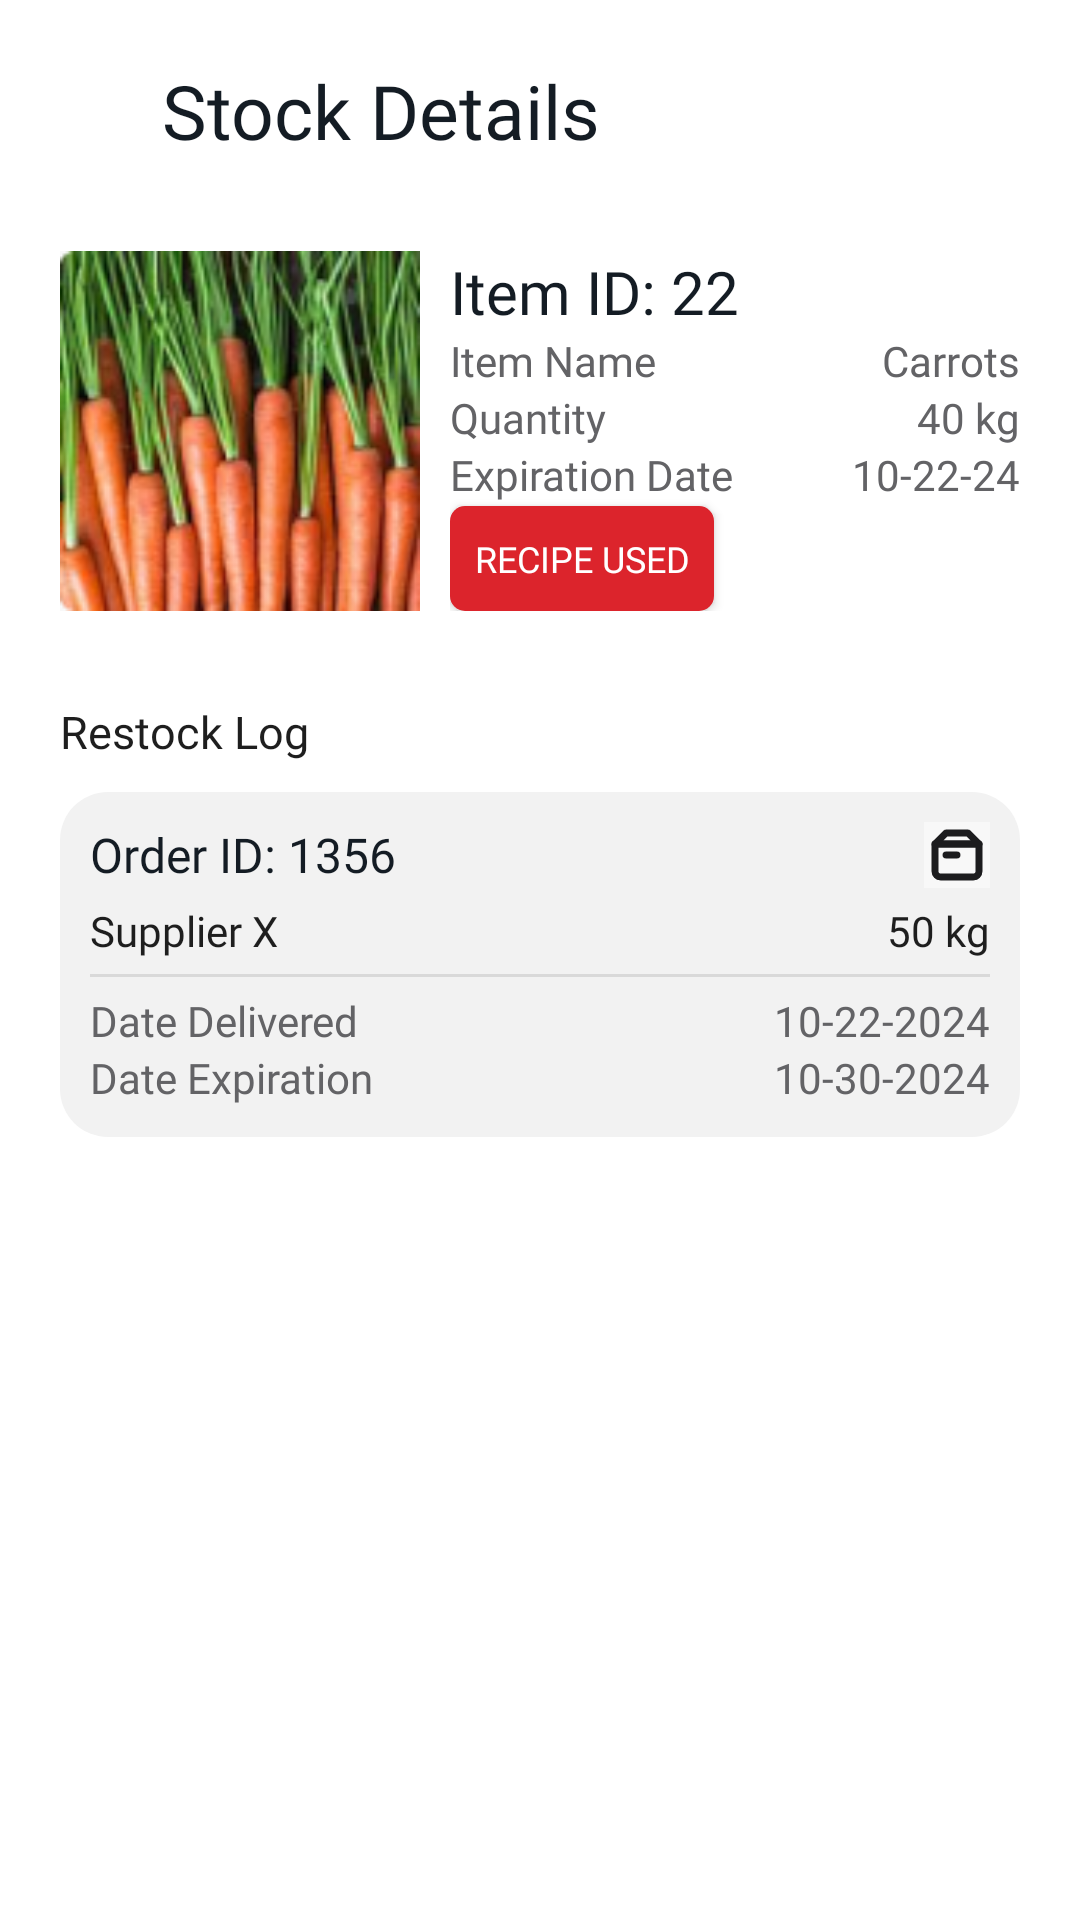

Point at icon controls on the screen. Image size 1080px×1920px, points as (x=x, y=y).
carrots: (x=240, y=431)
stock: (x=957, y=855)
